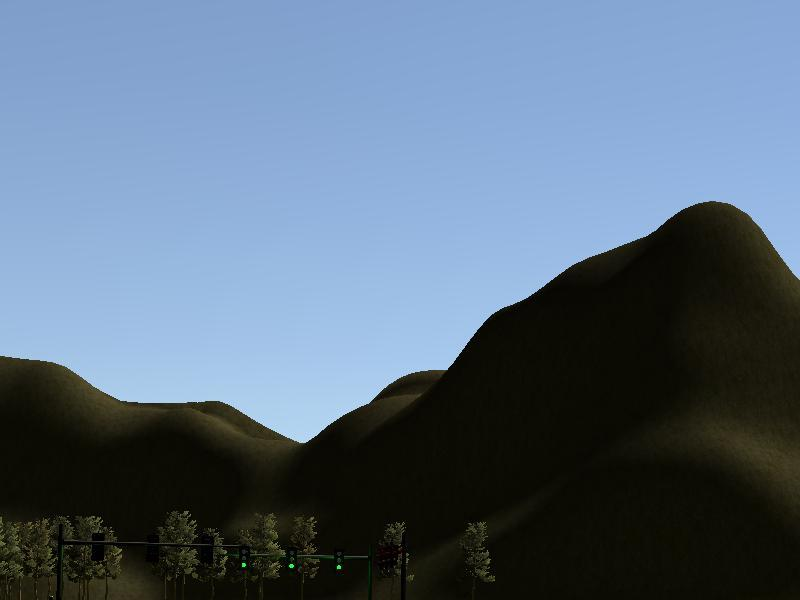Green: (237, 543, 250, 569), (284, 546, 297, 570), (333, 547, 344, 573)
